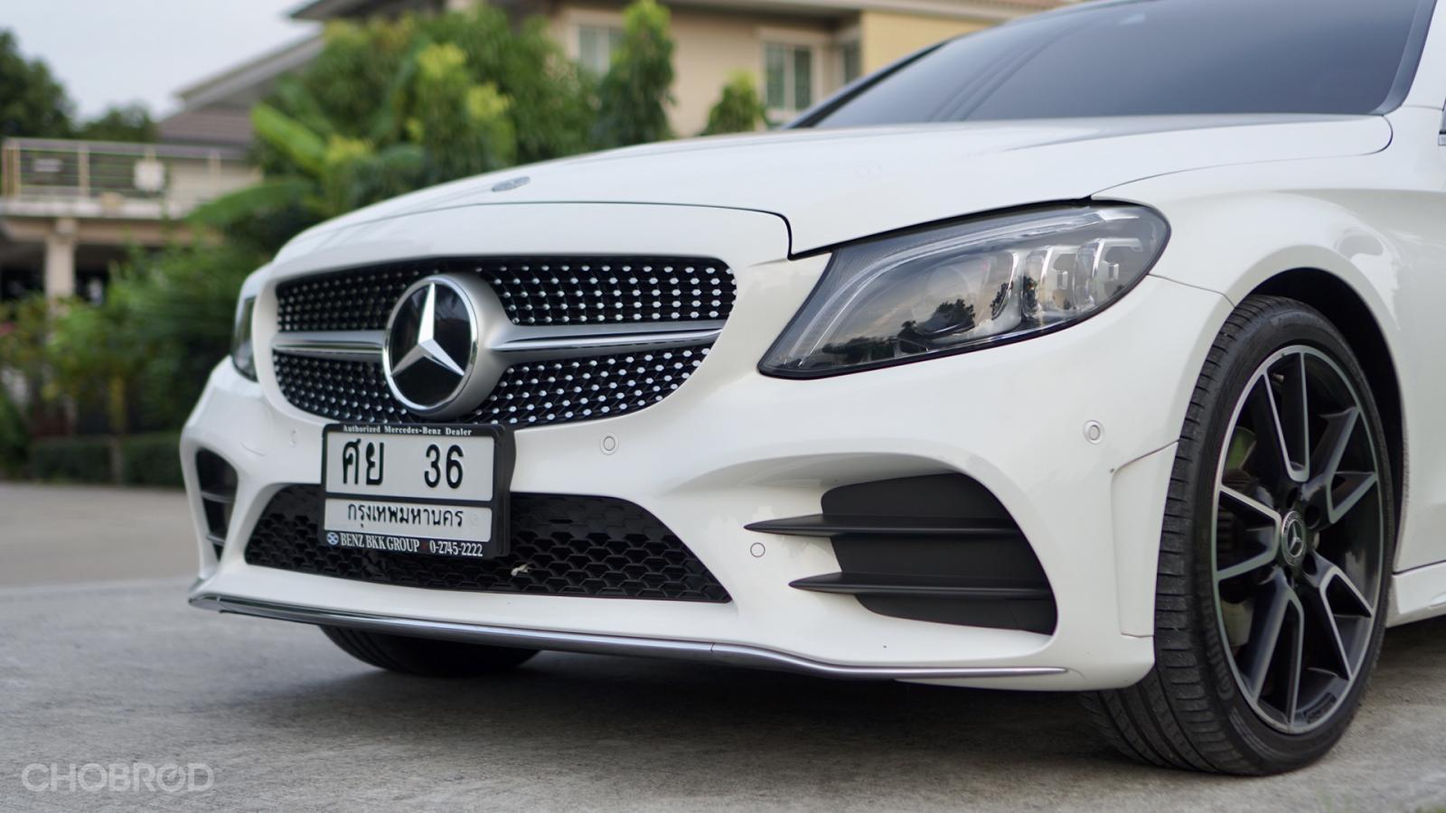license-plate: (312, 413, 522, 568)
